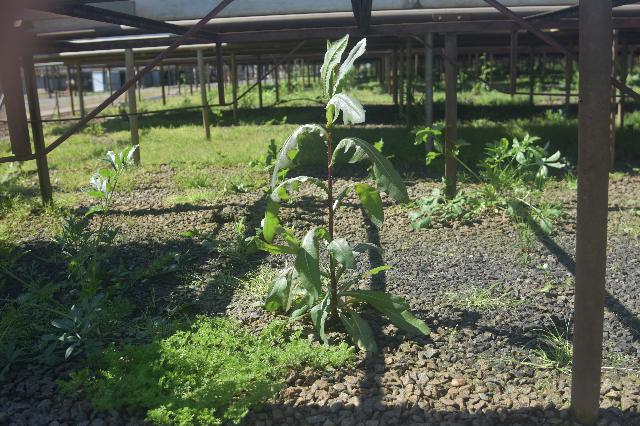MalezaMontesDelPlata: (249, 32, 433, 358), (60, 310, 360, 426), (406, 118, 566, 225), (52, 129, 145, 309), (143, 215, 247, 305), (0, 241, 70, 364), (512, 313, 574, 388), (436, 277, 529, 322), (177, 166, 259, 199), (515, 201, 546, 256)
